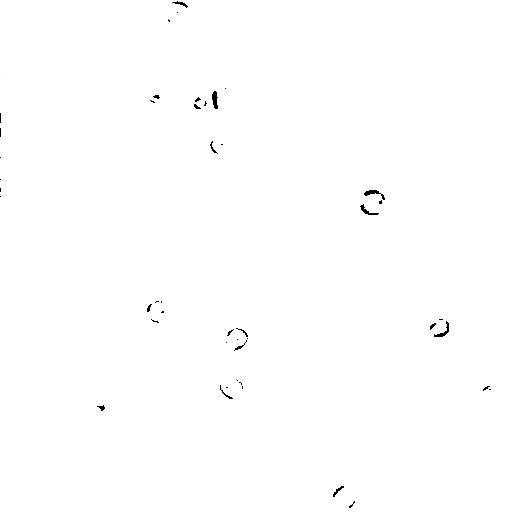micro-algae: (302, 99, 405, 204), (75, 392, 129, 447), (474, 381, 507, 417), (379, 0, 413, 32), (86, 395, 113, 431), (213, 81, 241, 113), (145, 295, 175, 323), (183, 87, 211, 116), (359, 187, 387, 216), (159, 0, 191, 25), (329, 484, 358, 508), (311, 25, 335, 51), (225, 326, 251, 350), (220, 374, 244, 398), (426, 315, 451, 338), (389, 0, 418, 19), (209, 134, 234, 155)
